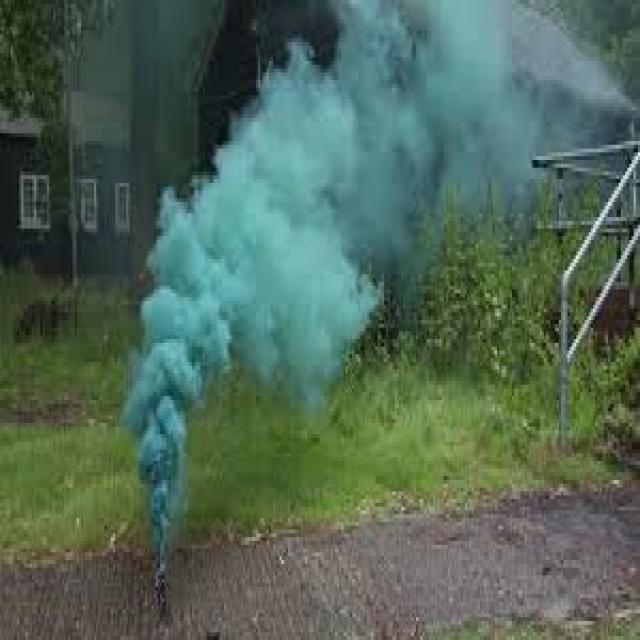Smoke: (119, 0, 542, 557)
